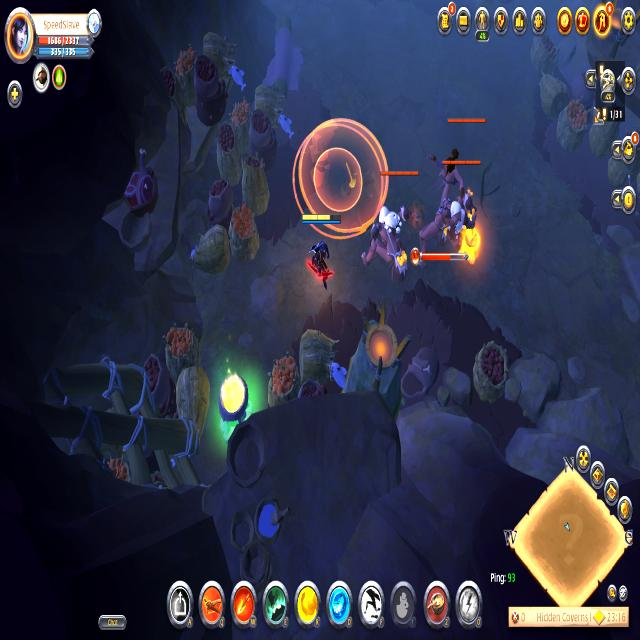fiber: (216, 360, 249, 434)
ore: (358, 161, 427, 290), (423, 108, 492, 231), (428, 146, 488, 277)
red: (298, 212, 342, 298)
silver: (292, 115, 389, 247)
